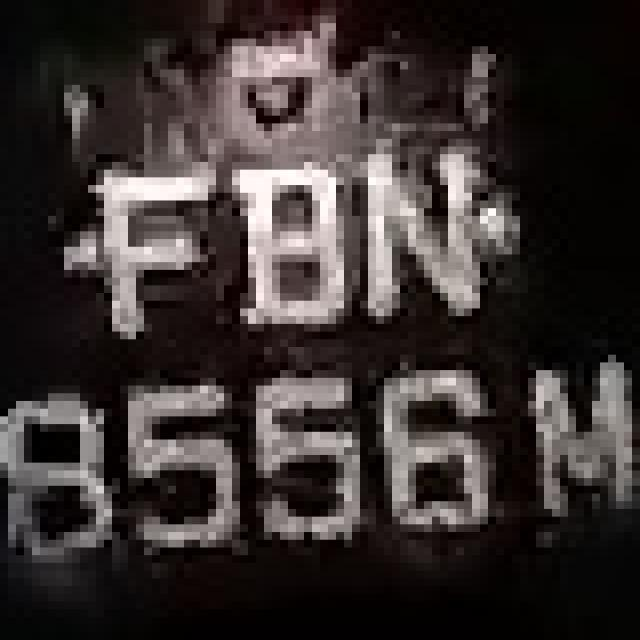5: (248, 355, 376, 555), (112, 370, 240, 555)
6: (360, 332, 504, 555)
8: (16, 370, 120, 578)
B: (208, 146, 344, 347)
F: (72, 139, 208, 362)
M: (512, 347, 632, 532)
N: (344, 124, 504, 332)
